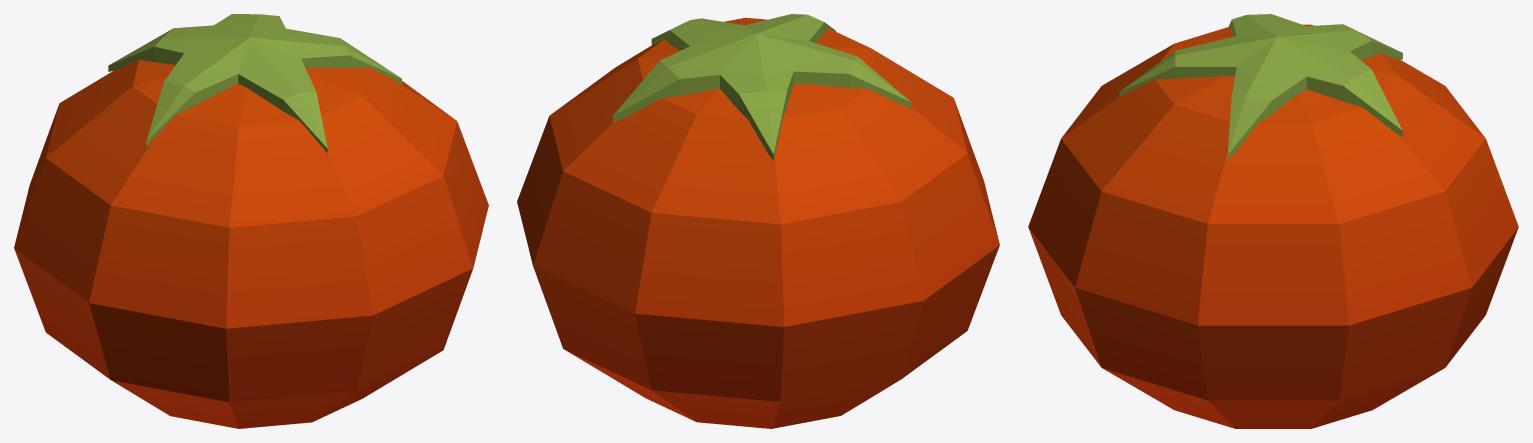
The model's file is tomato_1.fbx.
3 renders of one model, left to right at view 1: azimuth 30°, elevation 25°; view 2: azimuth 150°, elevation 25°; view 3: azimuth 270°, elevation 25°, orthographic.
Parts seen in each view (by area): view 1: tomato_1; view 2: tomato_1; view 3: tomato_1.
Boxes of the visible parts, x1,y1,x2,y2 form: tomato_1: [14, 14, 488, 428]; tomato_1: [517, 14, 999, 428]; tomato_1: [1028, 14, 1518, 428].
Size of the model in its own units: 0.117 by 0.0947 by 0.123.
